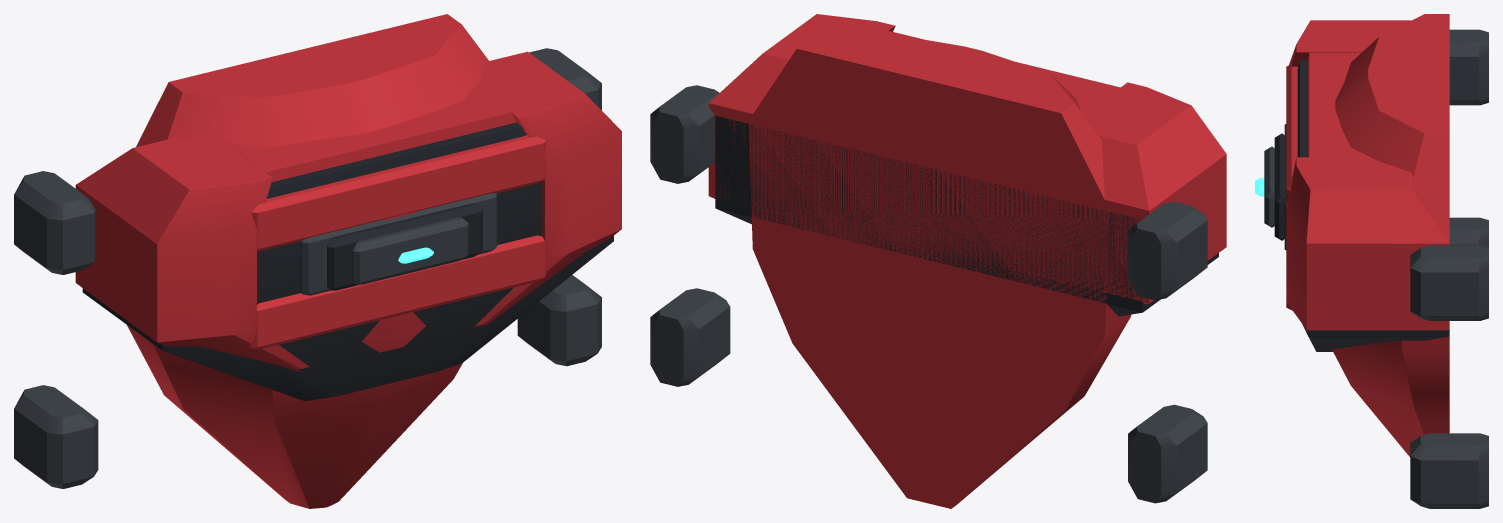
File: LowerArmBack_Set09_Mantis.fbx
The picture shows the model from 3 angles, left to right: view 1: azimuth 30°, elevation 25°; view 2: azimuth 150°, elevation 25°; view 3: azimuth 270°, elevation 25°; orthographic projection. The views are drawn at different scales.
Parts seen in each view (by area): view 1: LowerArmBack_Set09_Mantis; view 2: LowerArmBack_Set09_Mantis; view 3: LowerArmBack_Set09_Mantis.
Part boxes in pixels (bbox=[...]): LowerArmBack_Set09_Mantis: bbox=[14, 14, 621, 508]; LowerArmBack_Set09_Mantis: bbox=[650, 14, 1226, 508]; LowerArmBack_Set09_Mantis: bbox=[1255, 14, 1488, 508].
Size of the model in its own units: 0.43 by 0.33 by 0.1787.
